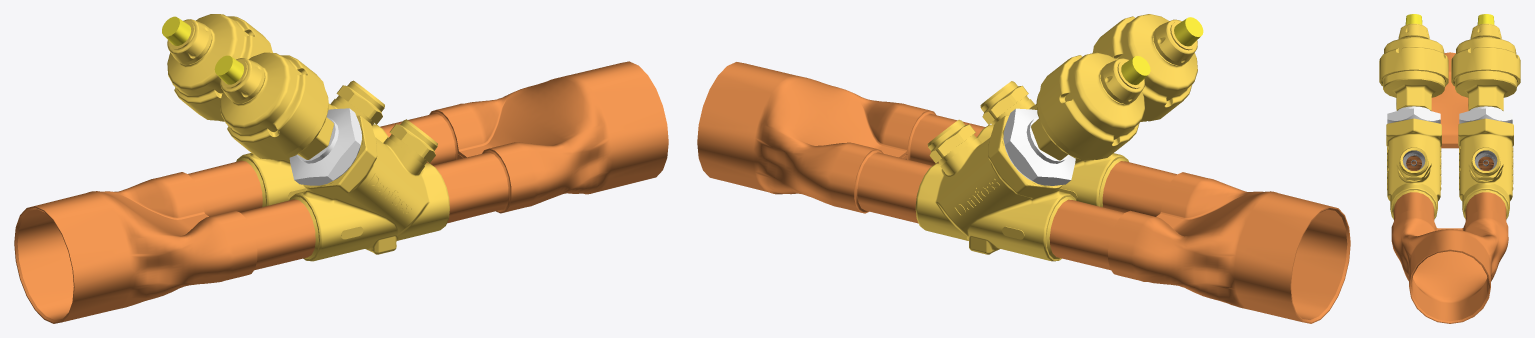
Rendered from ETS_Manifold04.glb.
3 renders of one model, left to right at view 1: azimuth 30°, elevation 25°; view 2: azimuth 150°, elevation 25°; view 3: azimuth 270°, elevation 25°, orthographic. The views are drawn at different scales.
Visible parts, largest first — view 1: Solid1; view 2: Solid1; view 3: Solid1.
Boxes of the visible parts, <box> form: Solid1: <box>14,14,668,323</box>; Solid1: <box>697,14,1350,323</box>; Solid1: <box>1379,14,1520,323</box>.
Size of the model in its own units: 1.58 by 0.6205 by 0.4796.
